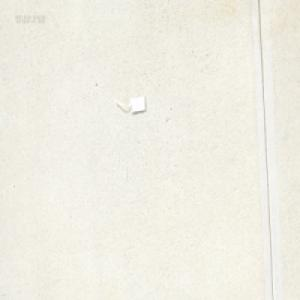LuggageTag: (112, 94, 146, 113)
